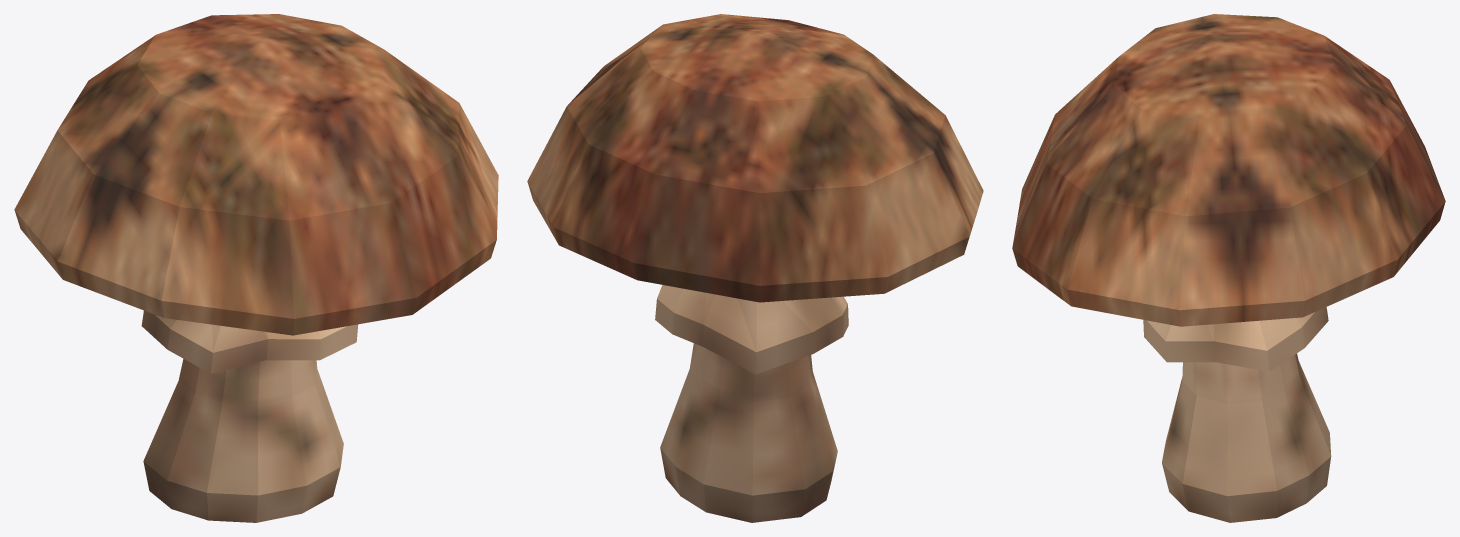
Rendered from Cogumelo-01-Botao.glb.
The picture shows the model from 3 angles, left to right: view 1: azimuth 30°, elevation 25°; view 2: azimuth 150°, elevation 25°; view 3: azimuth 270°, elevation 25°; orthographic projection. The views are drawn at different scales.
Visible parts, largest first — view 1: Botão; view 2: Botão; view 3: Botão.
Boxes of the visible parts, box(x1,y1,x2,y2) form: Botão: box(14, 14, 498, 522); Botão: box(527, 14, 983, 522); Botão: box(1012, 14, 1445, 522).
Bounding box in the file's own units: 0.0883 × 0.09 × 0.08.
1 material, 1 textured.
